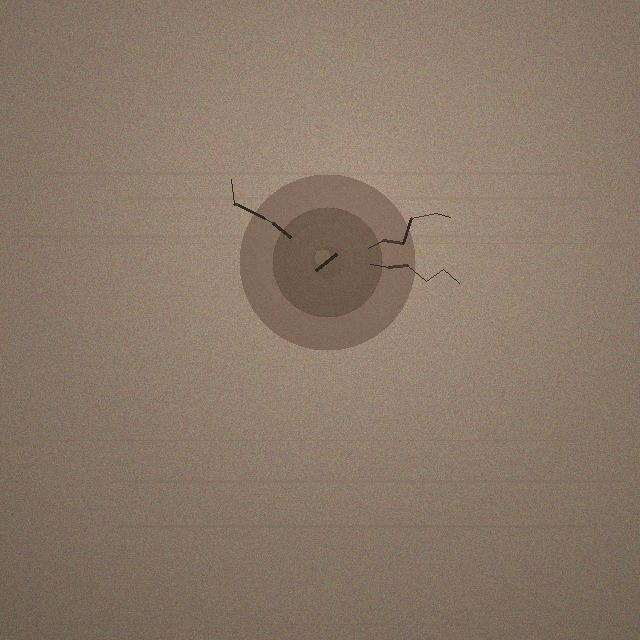crack: (239, 174, 415, 350)
